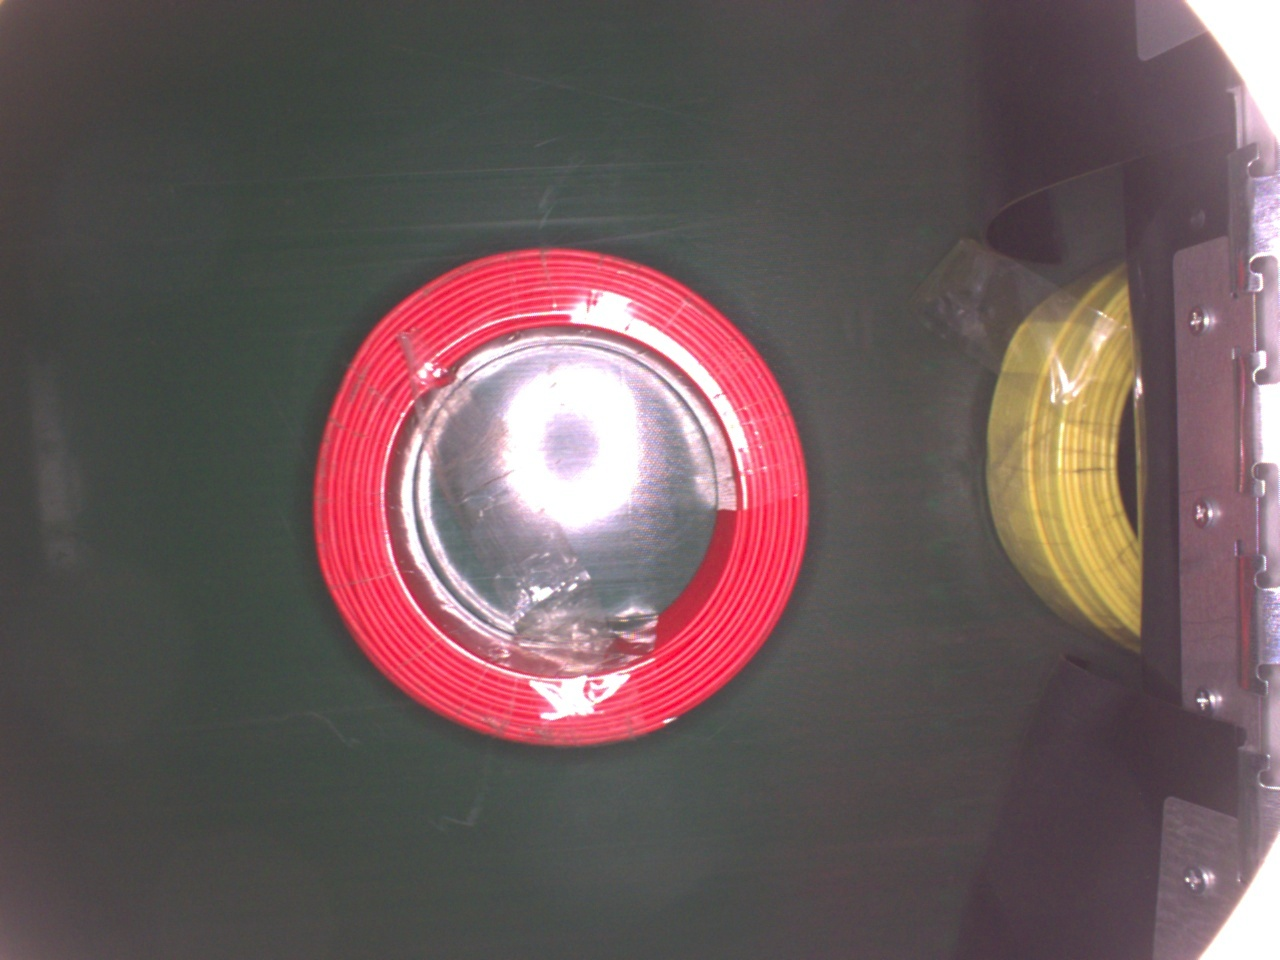red: (304, 240, 807, 744)
yellow: (983, 254, 1144, 650)
